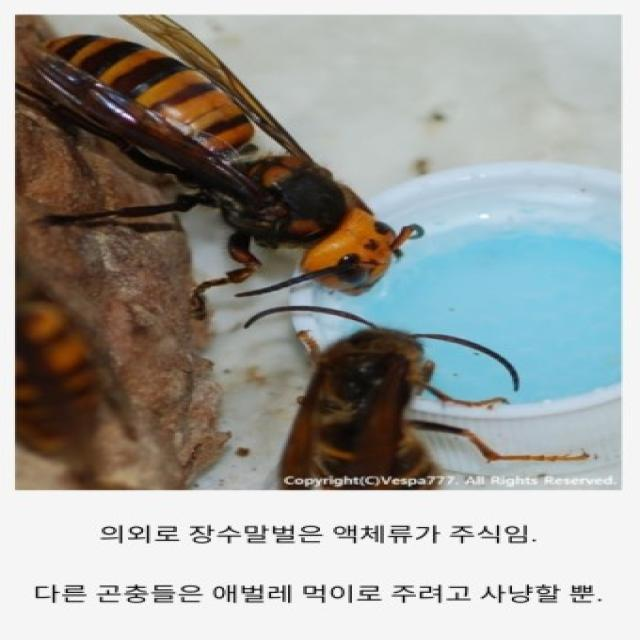Wasp: (32, 25, 400, 294)
